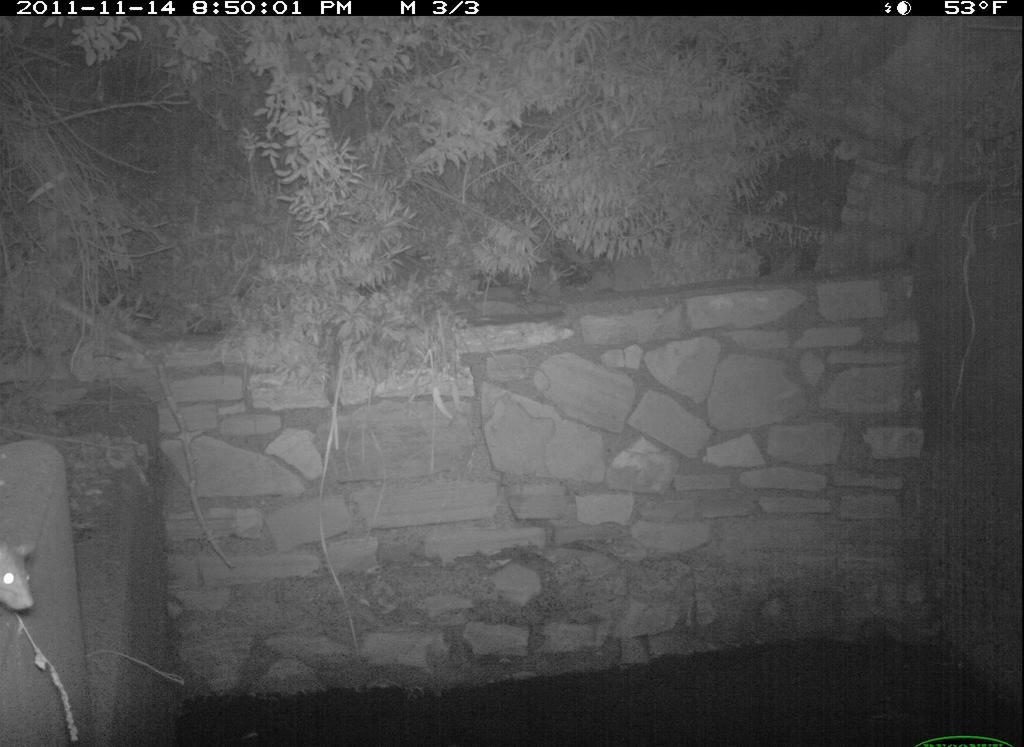rodent: (3, 528, 54, 626)
